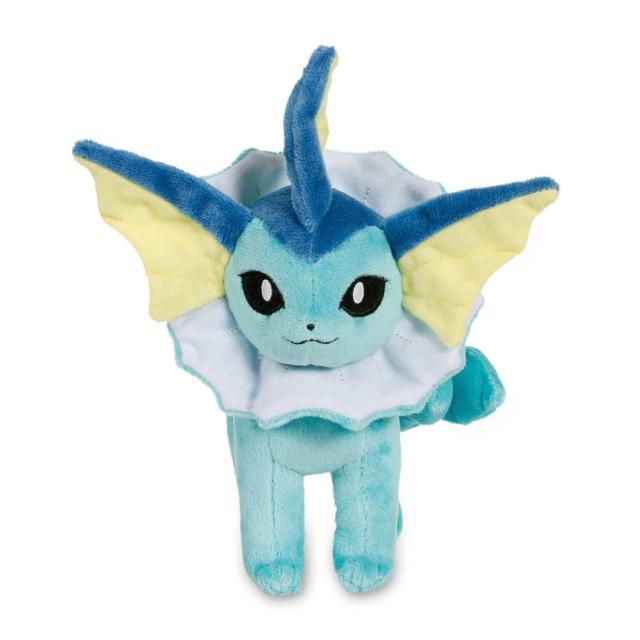Vaporeon: (66, 41, 564, 612)
